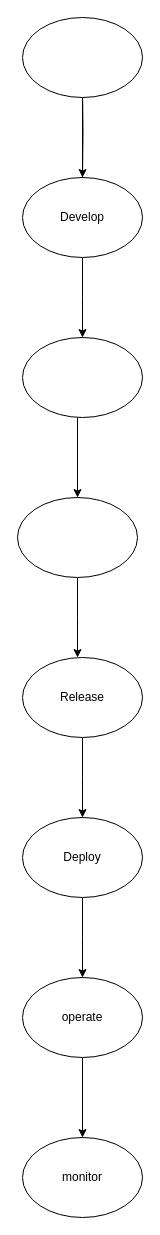
Some shapes in this 160 by 1235 pixel diagram are drawn without their labels. Each missing label, with the box of its shape:
plan: (22, 16, 142, 98)
Test: (16, 496, 138, 578)
